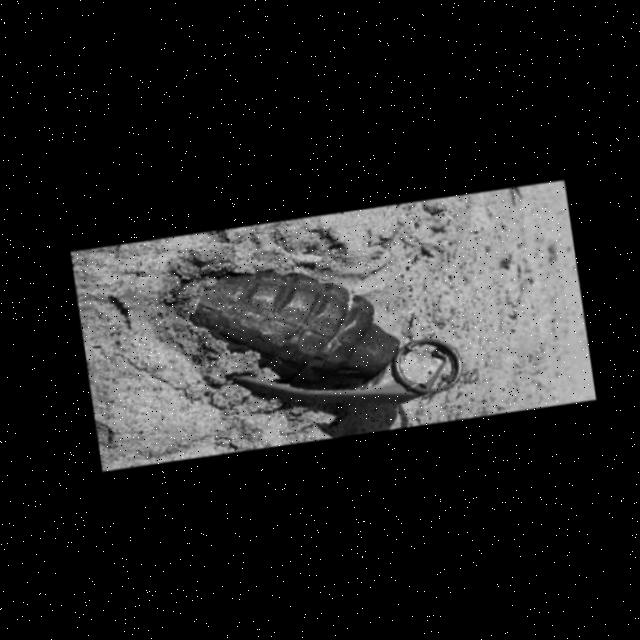grenade: (135, 192, 495, 467)
